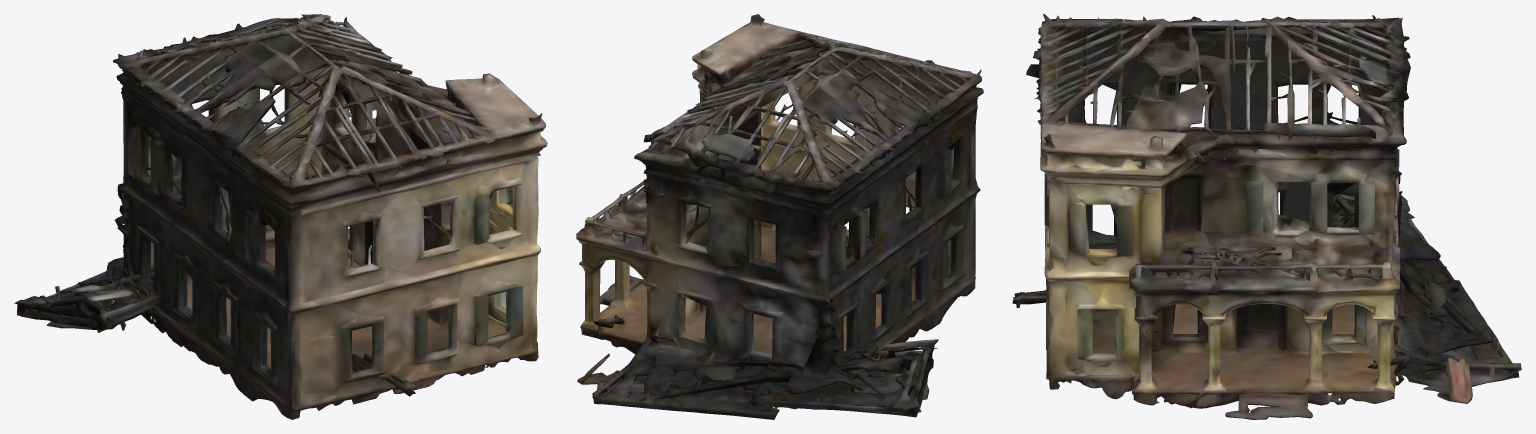
File: ruin_villa.glb
3 views of the same model, side by side, from view 1: azimuth 30°, elevation 25°; view 2: azimuth 150°, elevation 25°; view 3: azimuth 270°, elevation 25° (orthographic). The views are drawn at different scales.
Visible parts, largest first — view 1: tripo_node_7b0af3f1-fa4f-406b-8968-aea4e16aca91; view 2: tripo_node_7b0af3f1-fa4f-406b-8968-aea4e16aca91; view 3: tripo_node_7b0af3f1-fa4f-406b-8968-aea4e16aca91.
Boxes of the visible parts, x1,y1,x2,y2 form: tripo_node_7b0af3f1-fa4f-406b-8968-aea4e16aca91: (14,14,547,419); tripo_node_7b0af3f1-fa4f-406b-8968-aea4e16aca91: (576,14,983,419); tripo_node_7b0af3f1-fa4f-406b-8968-aea4e16aca91: (1012,14,1521,419).
Bounding box in the file's own units: 0.9653 × 0.6806 × 1.
Materials: 1 (1 with a texture image).
